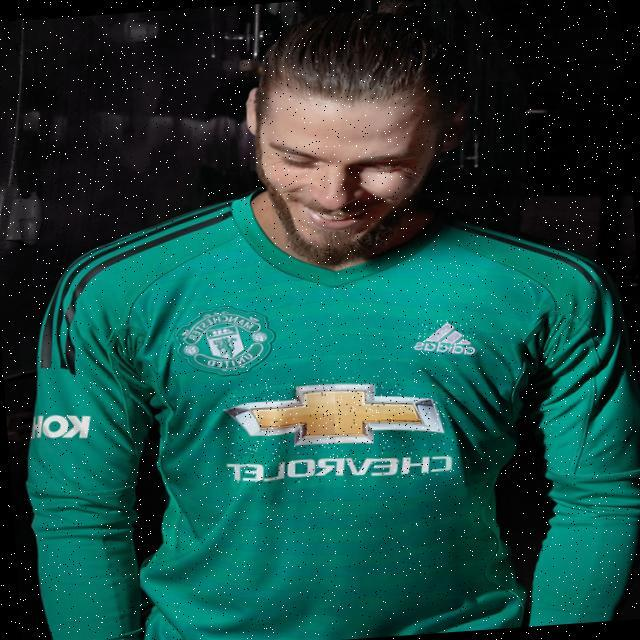Adidas: (416, 318, 477, 356)
Chevrolet: (221, 370, 455, 489)
